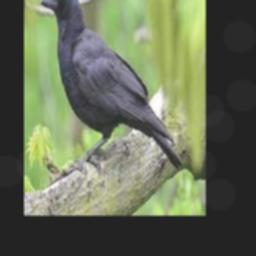Crow: (40, 0, 182, 171)
